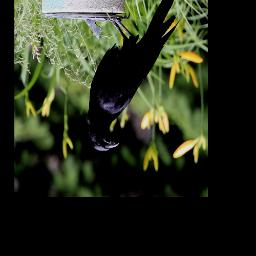Crow: (86, 0, 181, 152)
